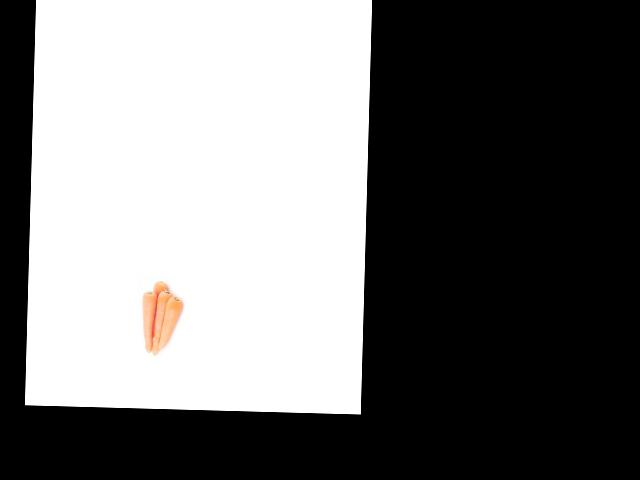carrot: (164, 294, 182, 352)
